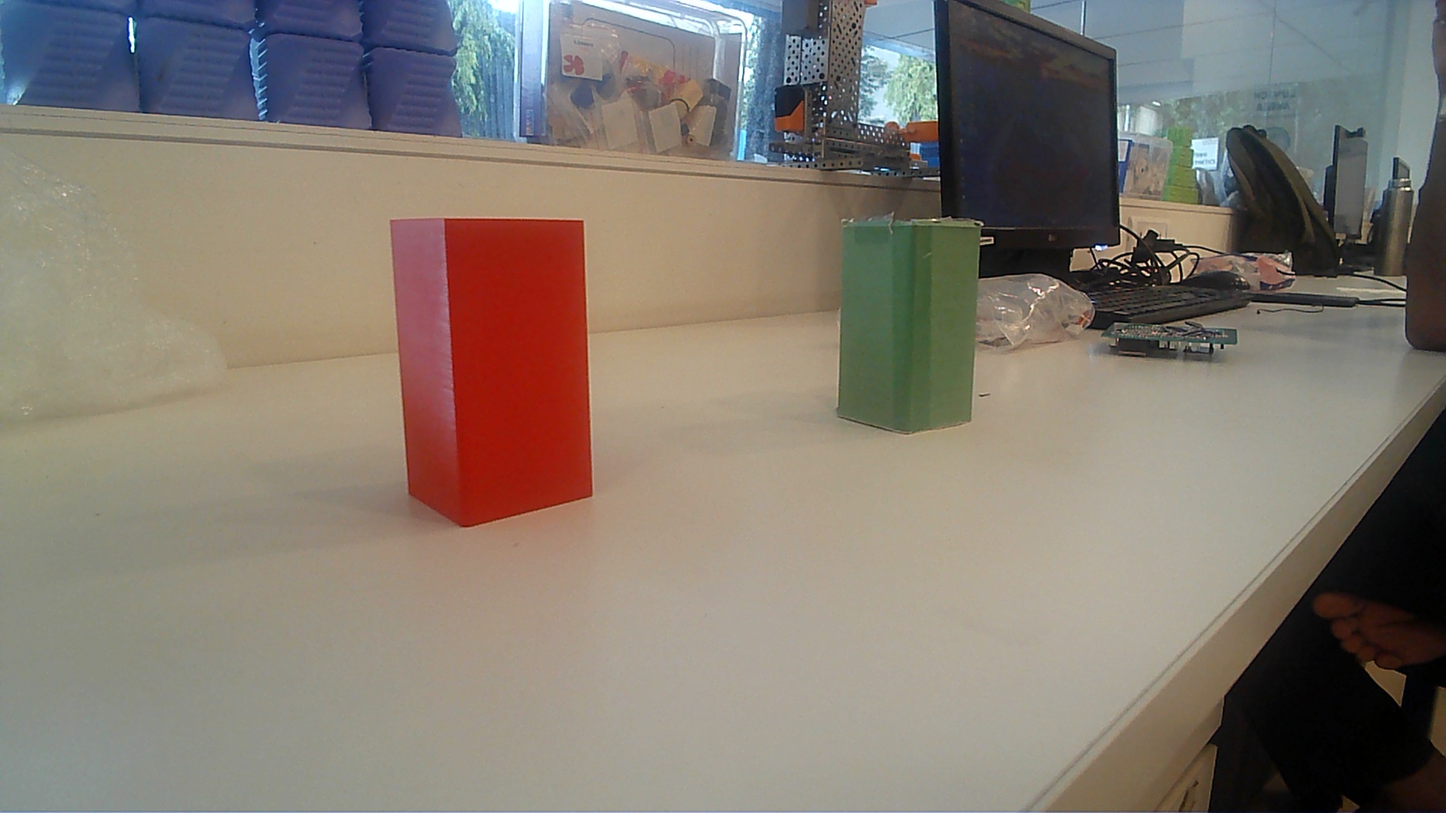green: (837, 218, 980, 439)
